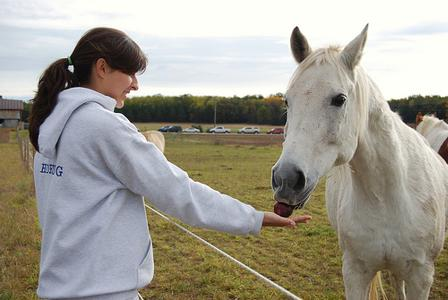person: (27, 28, 315, 300)
